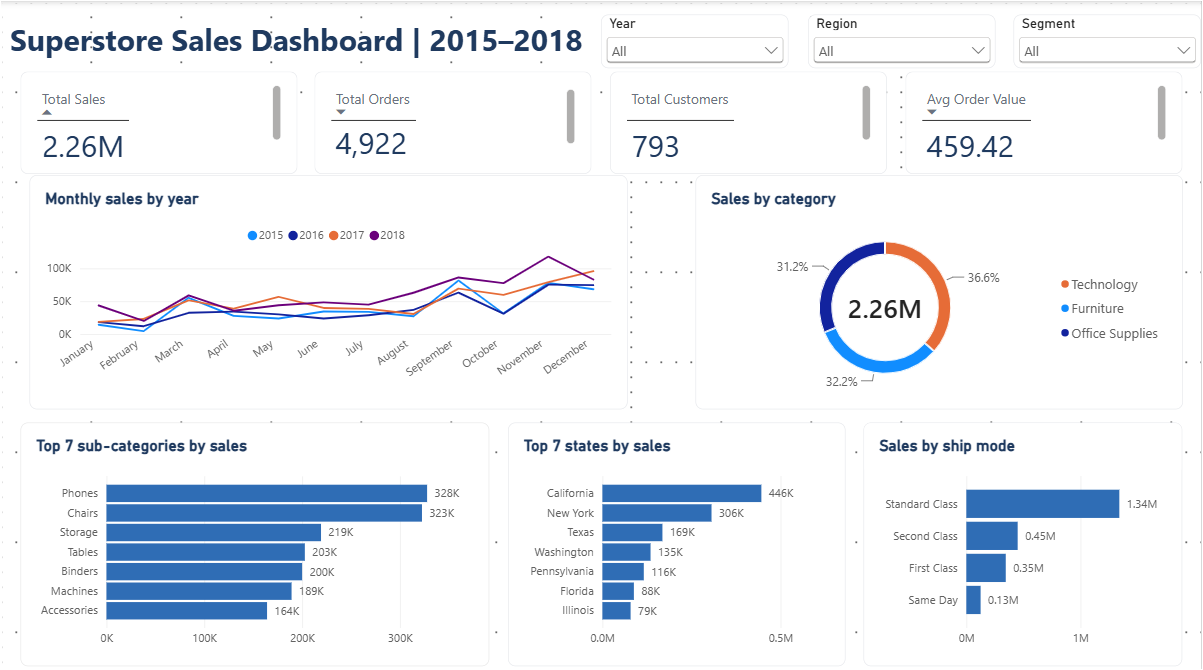

The page's visual inventory and layout, read from the dashboard file:
{"tool":"powerbi","page":{"name":"Page 1","canvas":[1280,720],"ordinal":0},"visuals":[{"type":"textbox","box":[10,0,800,68],"z":0},{"type":"tableEx","fields":{"Values":["Orders.Total Sales"]},"box":[20,75,295,109],"z":1000},{"type":"tableEx","fields":{"Values":["Orders.Avg Order Value"]},"box":[965,75,295,109],"z":2000},{"type":"tableEx","fields":{"Values":["Orders.Total Customers"]},"box":[650,75,295,109],"z":3000},{"type":"tableEx","fields":{"Values":["Orders.Total Orders"]},"box":[335,75,295,109],"z":4000},{"type":"slicer","fields":{"Values":["Orders.Year"]},"box":[640,15,200,57.5],"z":5000},{"type":"slicer","fields":{"Values":["Orders.Segment"]},"box":[1080,15,200,57.5],"z":6000},{"type":"slicer","fields":{"Values":["Orders.Region"]},"box":[860,15,200,57.5],"z":7000},{"type":"lineChart","title":"Monthly sales by year","fields":{"Category":["Orders.Month Name"],"Series":["Orders.Year"],"Y":["Orders.Total Sales"]},"box":[30,185,638,250],"z":8000},{"type":"donutChart","title":"Sales by category","fields":{"Category":["Orders.Category"],"Y":["Orders.Total Sales"]},"box":[740,185,520,250],"z":9000},{"type":"clusteredBarChart","title":"Top 7 sub-categories by sales","fields":{"Category":["Orders.Sub-Category"],"Y":["Orders.Total Sales"]},"box":[20,450,500,260],"z":10000},{"type":"clusteredBarChart","title":"Top 7 states by sales","fields":{"Category":["Orders.State"],"Y":["Orders.Total Sales"]},"box":[540,450,360,260],"z":11000},{"type":"clusteredBarChart","title":"Sales by ship mode","fields":{"Category":["Orders.Ship Mode"],"Y":["Orders.Total Sales"]},"box":[920,450,340,260],"z":12000}]}

Visuals, with their boxes in screenshot pixels (x1, y1, x2, y2), scaled from the page's 1280x720 canvas onto the 1203x670 screenshot:
textbox: bbox=[9, 0, 761, 63]
tableEx - Orders.Total Sales: bbox=[19, 70, 296, 171]
tableEx - Orders.Avg Order Value: bbox=[907, 70, 1184, 171]
tableEx - Orders.Total Customers: bbox=[611, 70, 888, 171]
tableEx - Orders.Total Orders: bbox=[315, 70, 592, 171]
slicer - Orders.Year: bbox=[602, 14, 789, 67]
slicer - Orders.Segment: bbox=[1015, 14, 1202, 67]
slicer - Orders.Region: bbox=[808, 14, 996, 67]
"Monthly sales by year" lineChart: bbox=[28, 172, 628, 405]
"Sales by category" donutChart: bbox=[695, 172, 1184, 405]
"Top 7 sub-categories by sales" clusteredBarChart: bbox=[19, 419, 489, 661]
"Top 7 states by sales" clusteredBarChart: bbox=[508, 419, 846, 661]
"Sales by ship mode" clusteredBarChart: bbox=[865, 419, 1184, 661]
